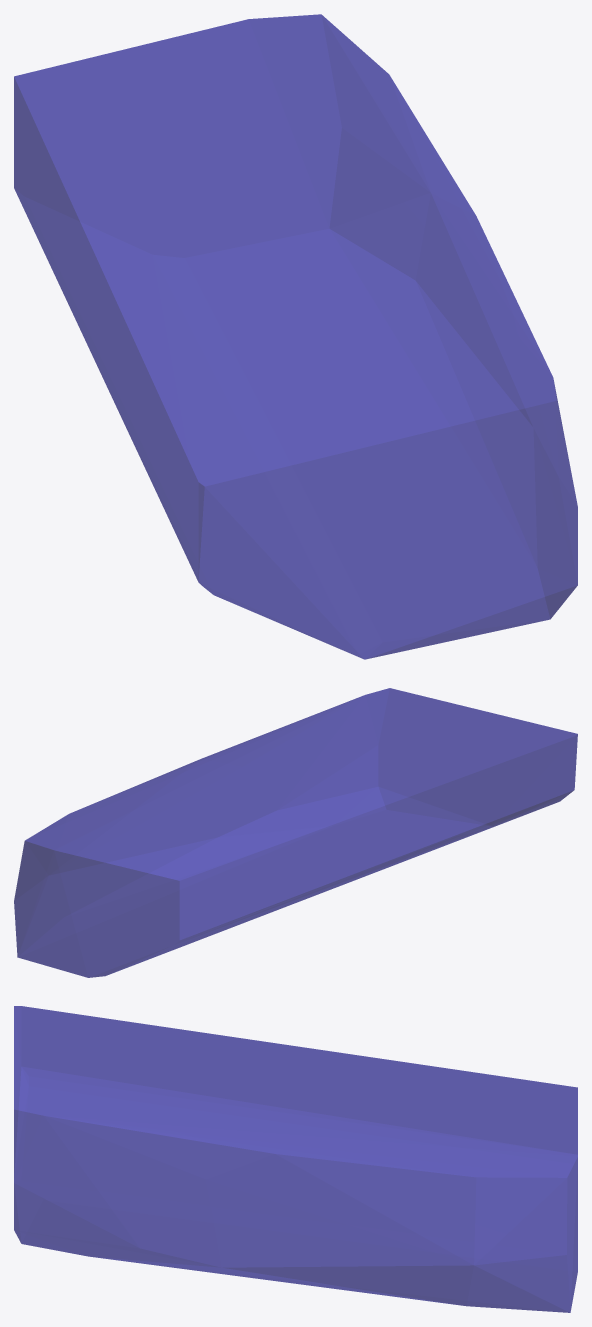
The picture shows the model from 3 angles, top to bottom: view 1: azimuth 30°, elevation 25°; view 2: azimuth 150°, elevation 25°; view 3: azimuth 270°, elevation 25°; orthographic projection. The views are drawn at different scales.
Parts seen in each view (by area): view 1: Shape_IndexedFaceSet.013_Shape_IndexedFaceSet.14060; view 2: Shape_IndexedFaceSet.013_Shape_IndexedFaceSet.14060; view 3: Shape_IndexedFaceSet.013_Shape_IndexedFaceSet.14060.
Boxes of the visible parts, x1,y1,x2,y2 form: Shape_IndexedFaceSet.013_Shape_IndexedFaceSet.14060: [14, 14, 577, 659]; Shape_IndexedFaceSet.013_Shape_IndexedFaceSet.14060: [14, 688, 577, 977]; Shape_IndexedFaceSet.013_Shape_IndexedFaceSet.14060: [14, 1006, 577, 1312].
Bounding box in the file's own units: 0.1583 × 0.0555 × 0.211.
